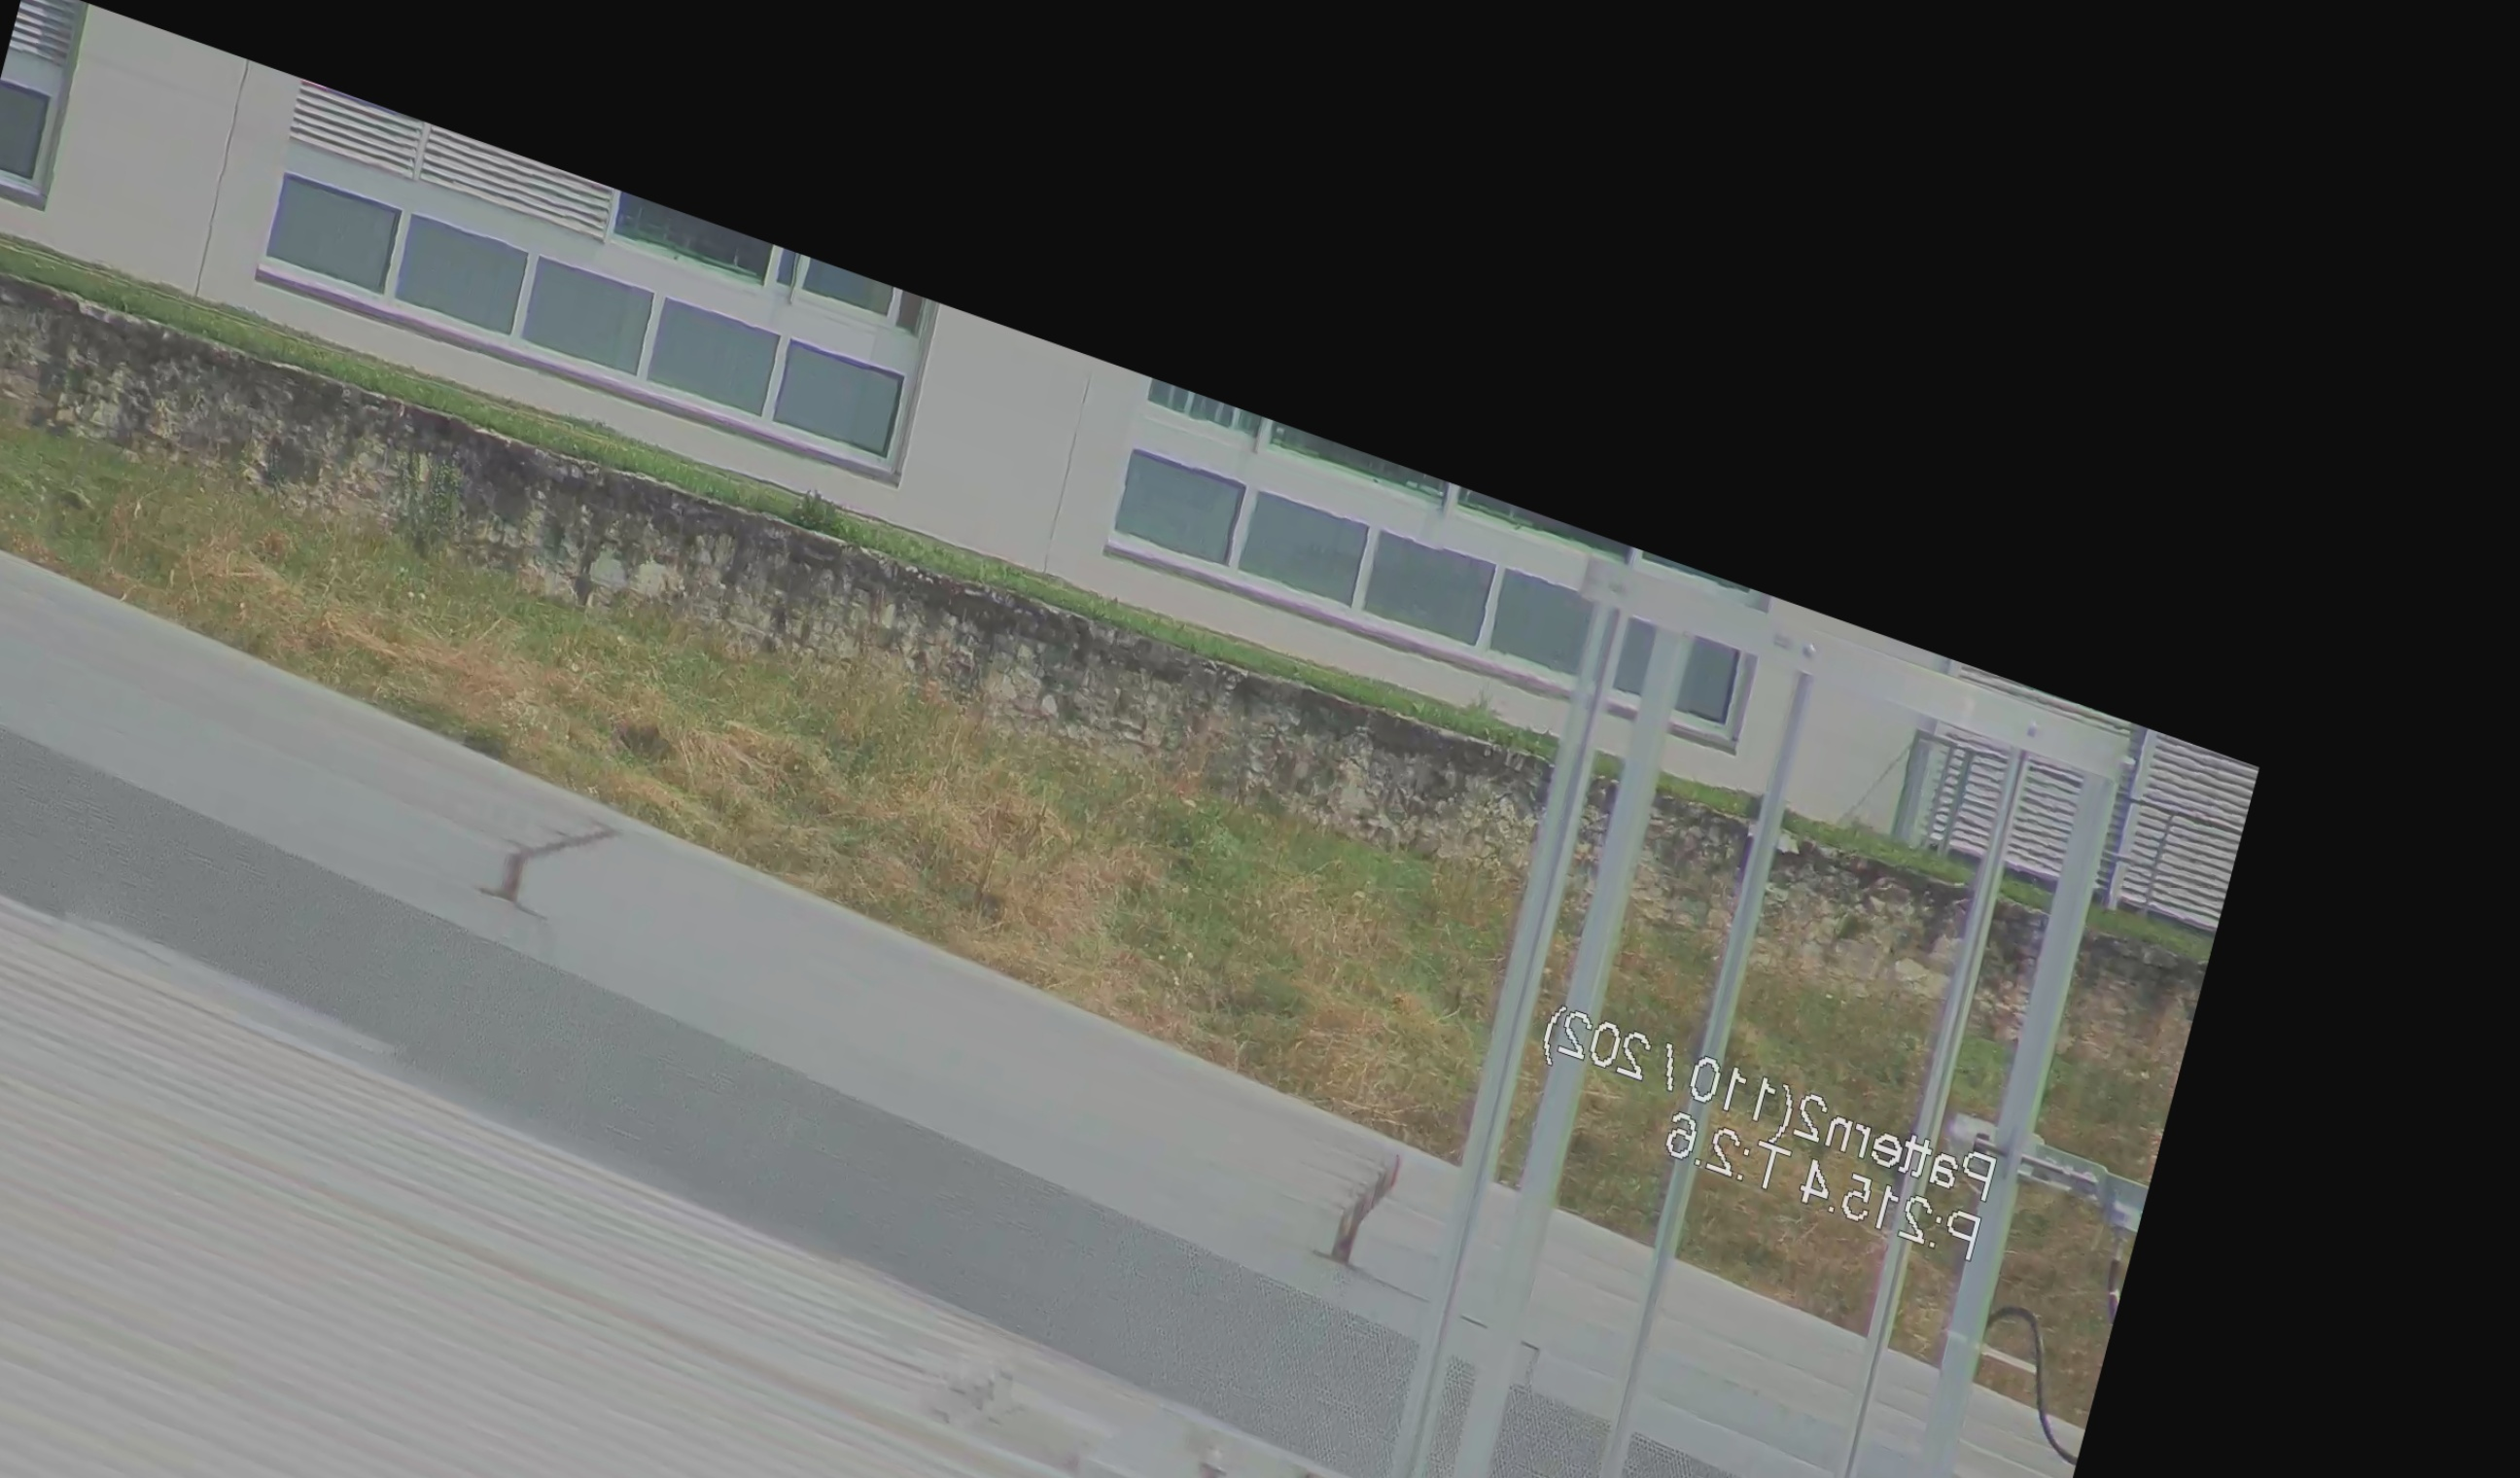Other: (1310, 1116, 1437, 1295)
